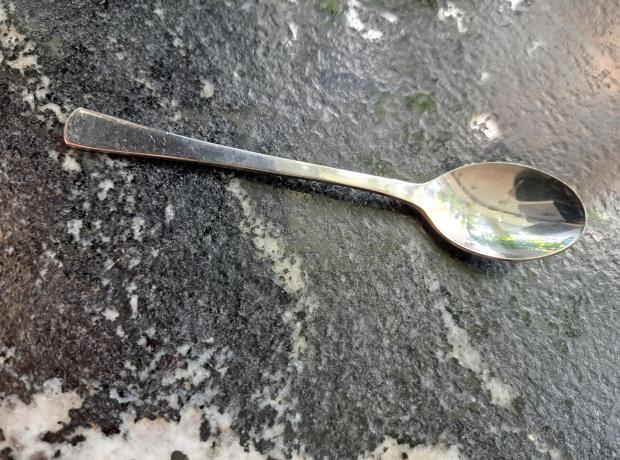metal: (63, 103, 591, 268)
